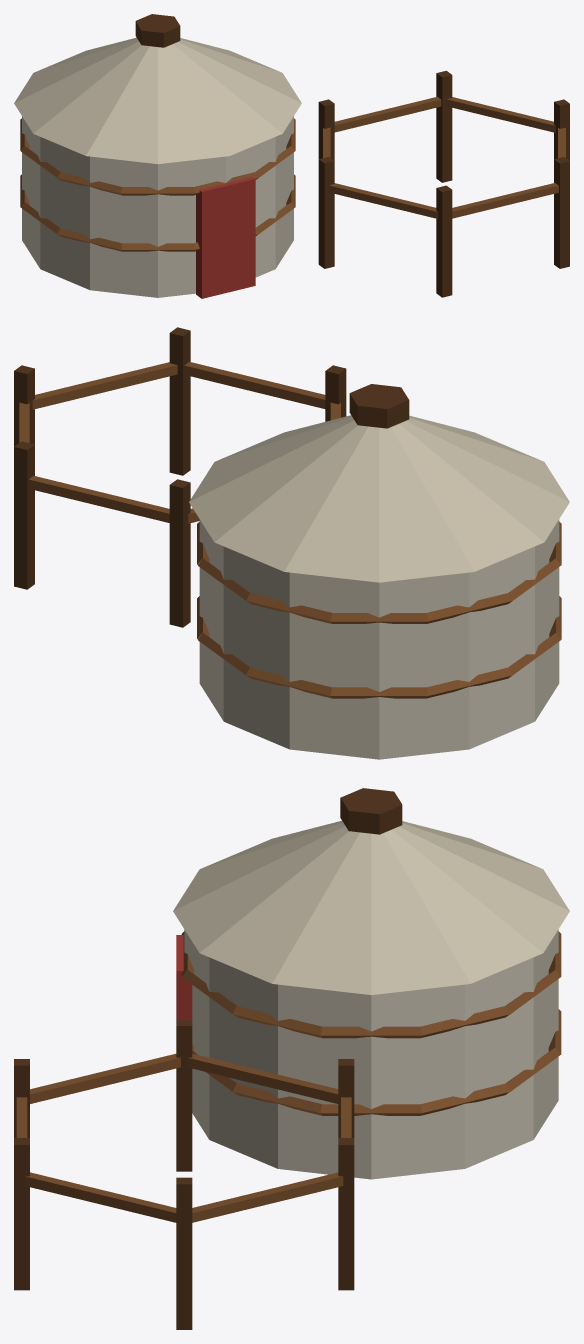
Rendered from orc_house_c.glb.
3 renders of one model, top to bottom at view 1: azimuth 30°, elevation 25°; view 2: azimuth 150°, elevation 25°; view 3: azimuth 270°, elevation 25°, orthographic. The views are drawn at different scales.
Parts seen in each view (by area): view 1: orc_house_c; view 2: orc_house_c; view 3: orc_house_c.
Part boxes in pixels (x1=…): orc_house_c: x1=14, y1=14, x2=569, y2=298; orc_house_c: x1=14, y1=327, x2=569, y2=759; orc_house_c: x1=14, y1=788, x2=569, y2=1329.
Size of the model in its own units: 2.77 by 1.23 by 2.08.
